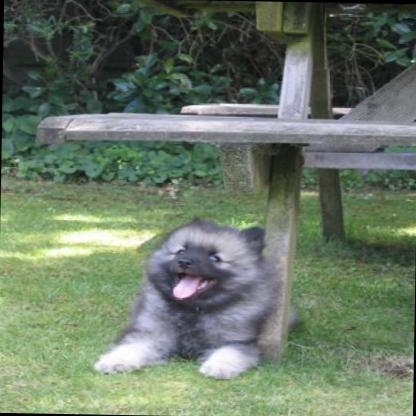keeshond: (93, 213, 278, 380)
